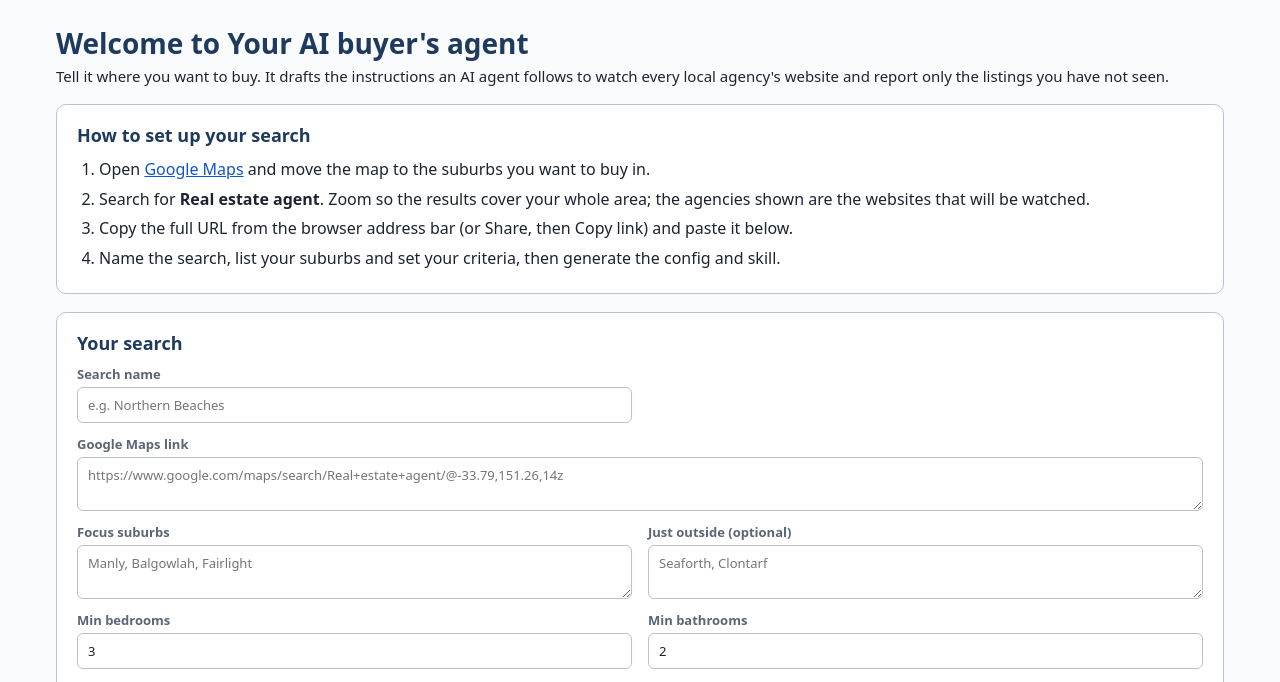
HomePage › shows what it read from the Maps link as soon as it is pasted
The image size is (1280, 682).
In the text box labelled "Google Maps link": [640, 484] box [77,457,1203,511], type "https://www.google.com/maps/search/Real+estate+agent/@-33.7955,151.2653,14z"
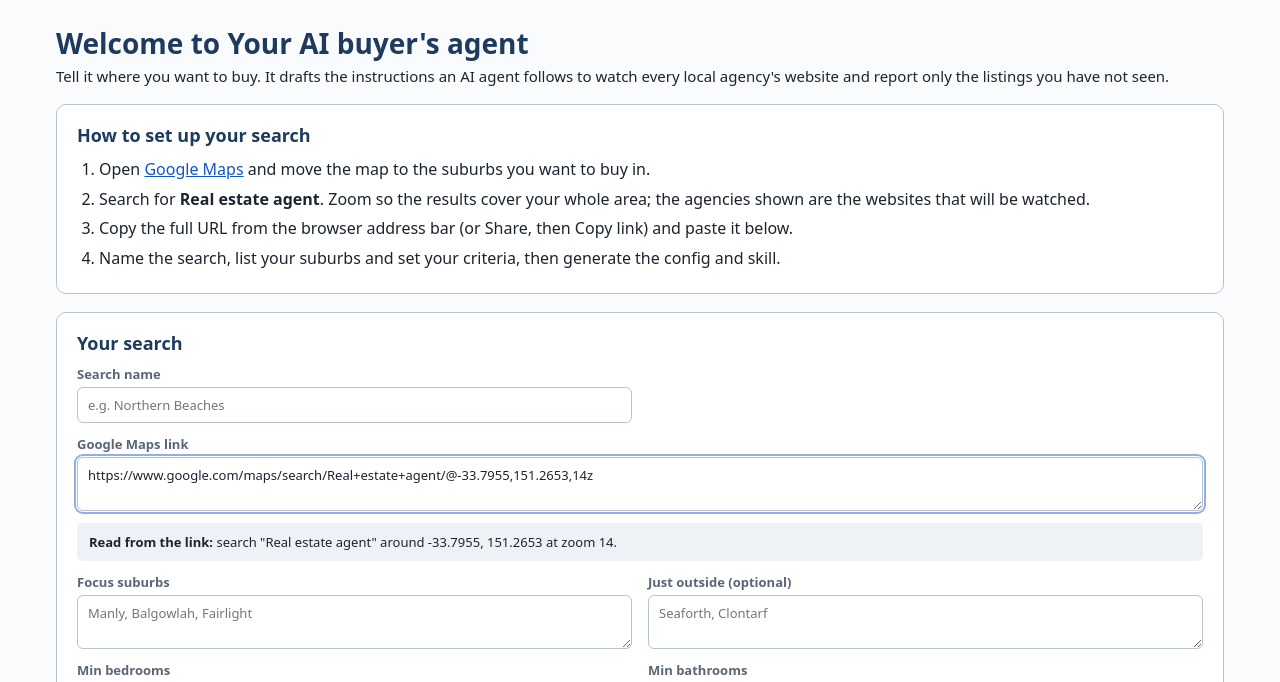
Expected: the element with test id "maps-preview" shows "Real estate agent", [265,533,371,551]
Expected: the element with test id "maps-preview" shows "-33.7955", [428,533,480,551]
